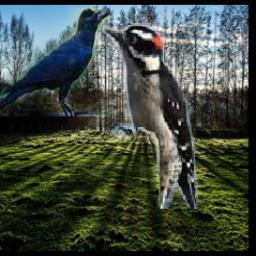Crow: (0, 9, 110, 117)
Woodpecker: (104, 24, 199, 210)
